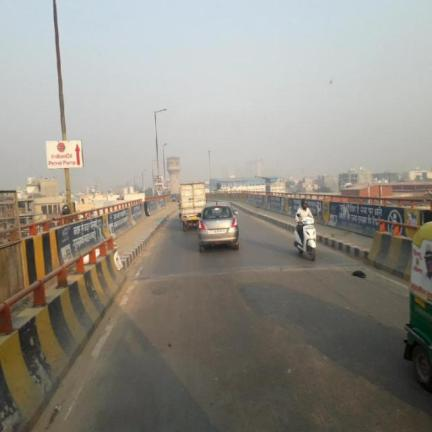Road: (34, 214, 431, 431)
